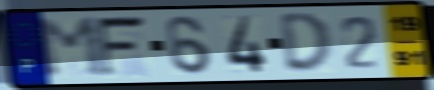2: (340, 14, 381, 70)
4: (224, 13, 270, 76)
6: (164, 13, 215, 77)
D: (277, 11, 335, 76)
F: (94, 13, 150, 80)
M: (32, 15, 110, 81)
